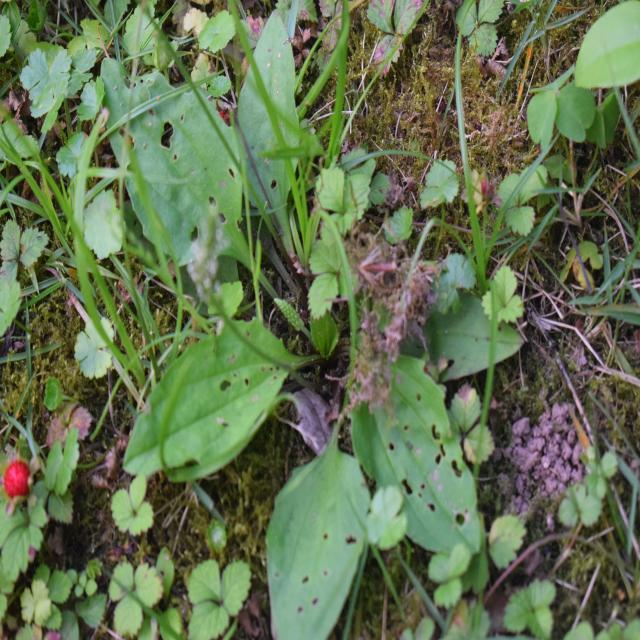plantain: (134, 39, 464, 565)
